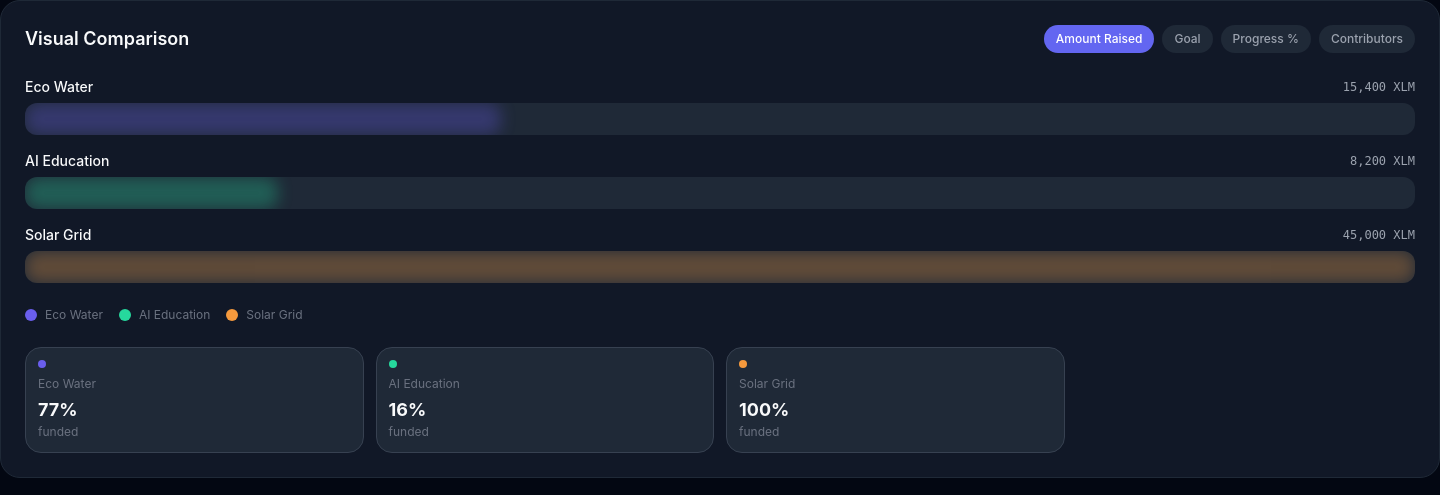
Scenario: ComparisonChart › switches metric when toggle button is clicked
Click the radio button "Contributors": (1367, 39) [1319, 25, 1415, 53]
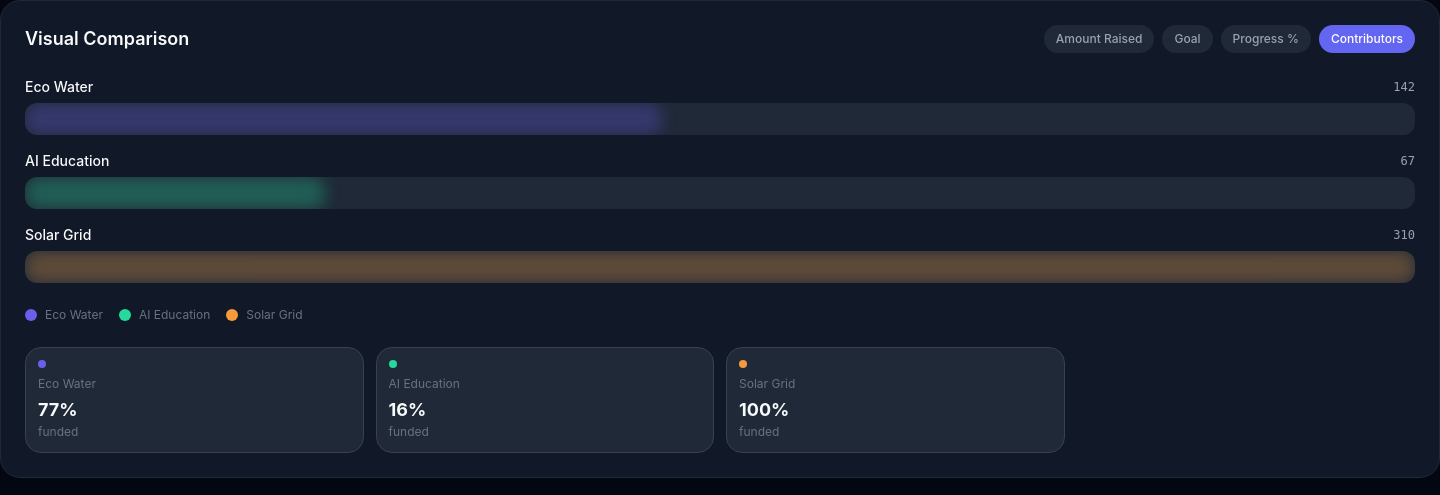
Expected: the text with test id "chart-value-1" reads "142", [1393, 80, 1415, 94]
Expected: the text with test id "chart-value-2" reads "67", [1400, 154, 1415, 168]
Expected: the text with test id "chart-value-3" reads "310", [1393, 228, 1415, 242]
